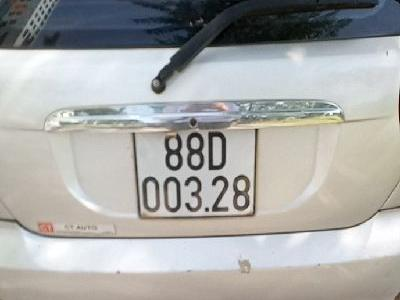number: (134, 125, 255, 217)
